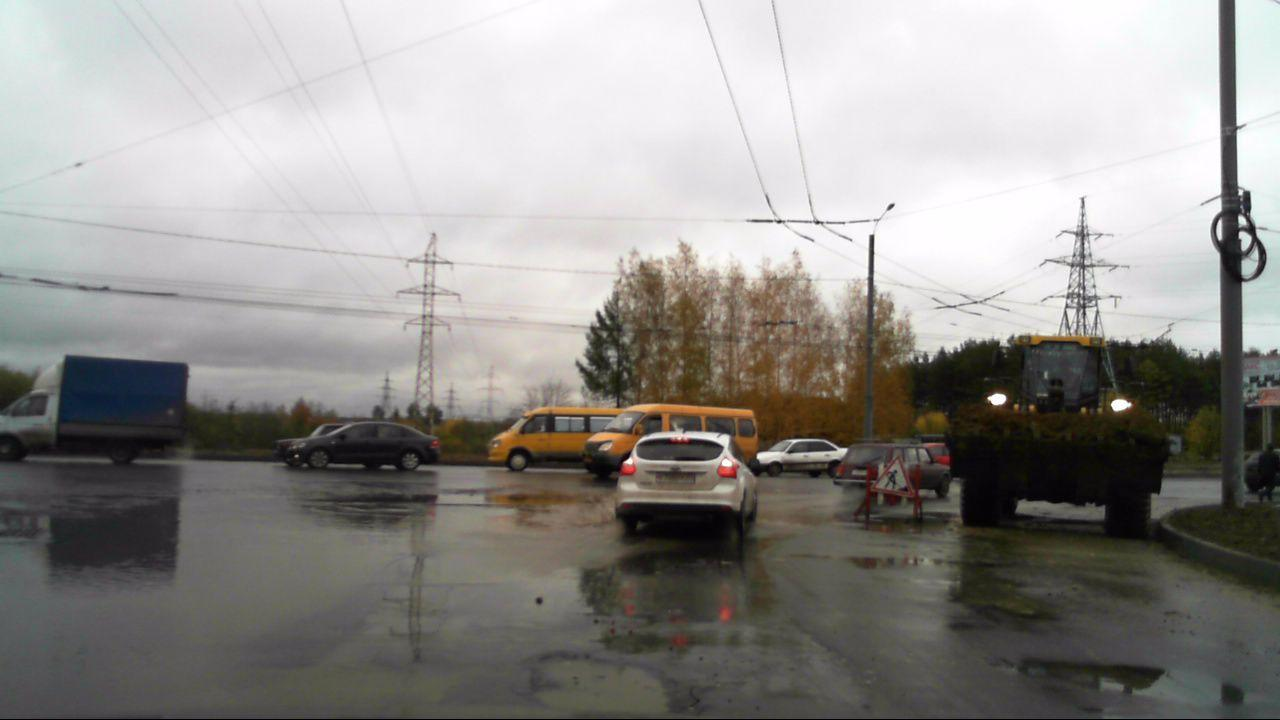1_25: (870, 456, 917, 498)
